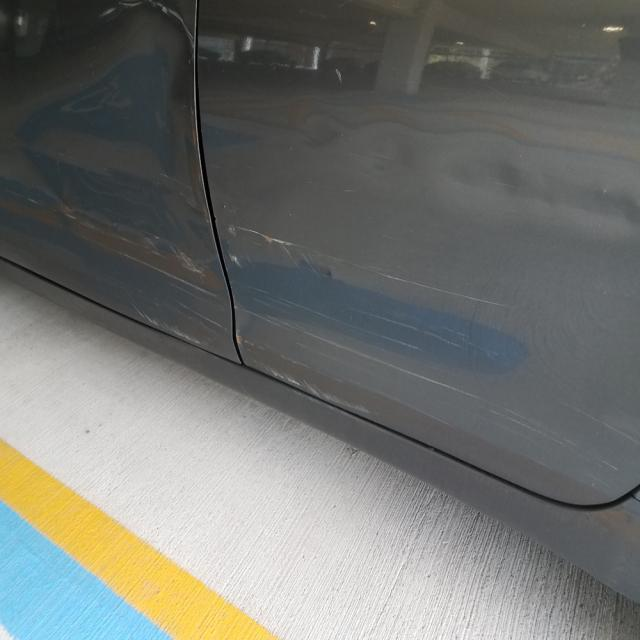dent: (9, 2, 209, 271), (295, 119, 640, 236)
scratch: (228, 218, 640, 471), (123, 256, 227, 354)
